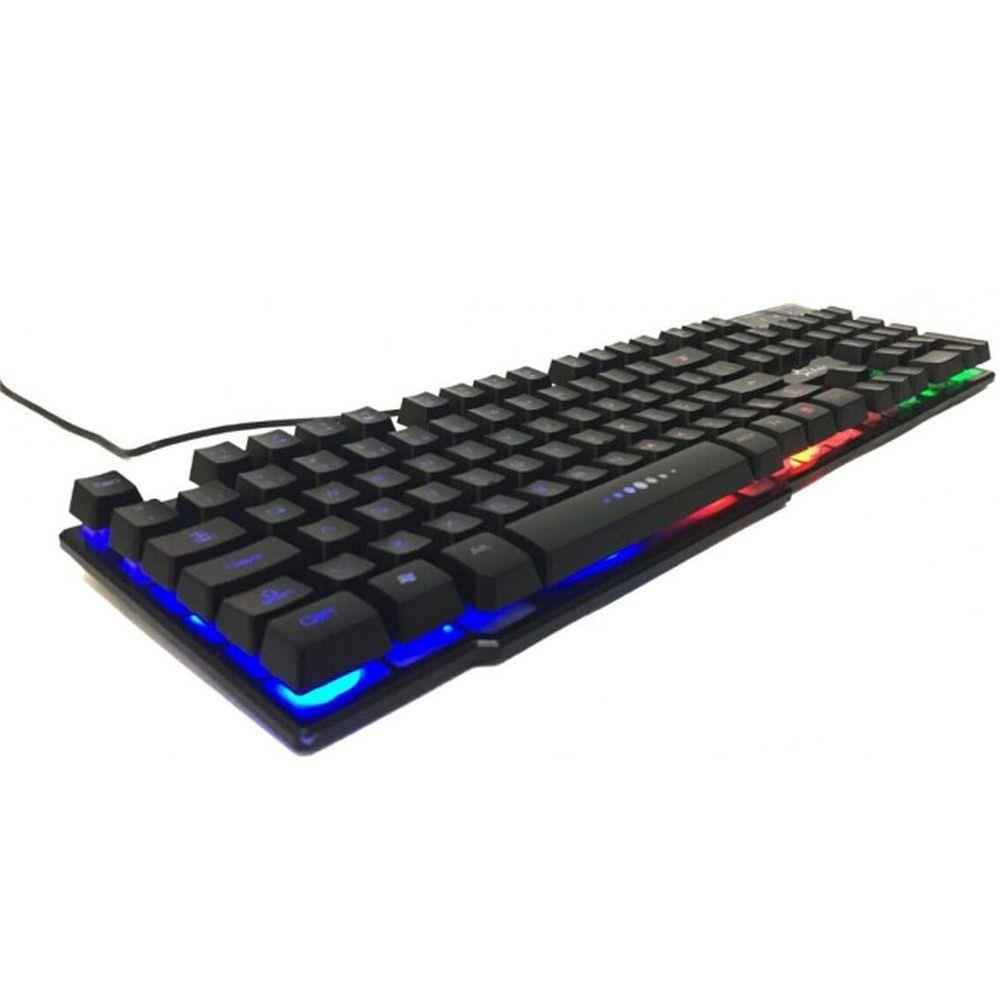keyboard: (57, 293, 997, 761)
